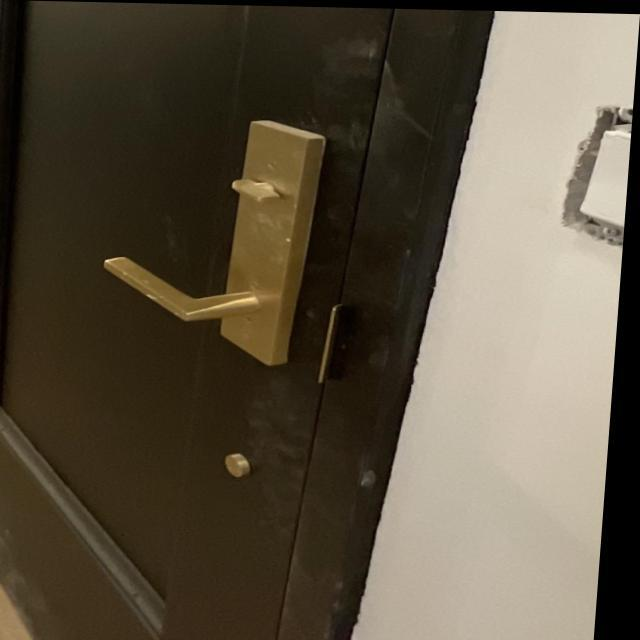door_handle: (77, 242, 339, 345)
